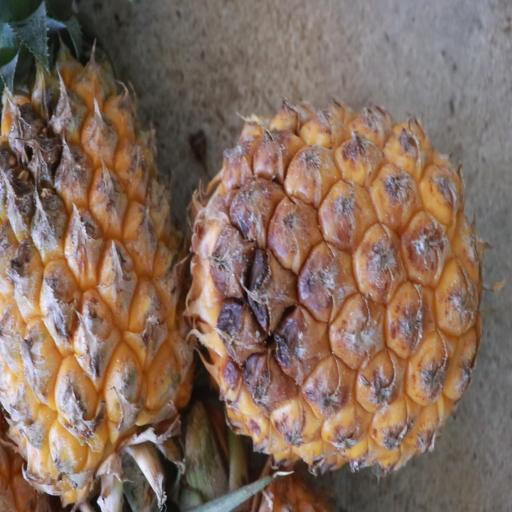Pineapple - v8 v1: (180, 104, 475, 478), (0, 4, 195, 512)
